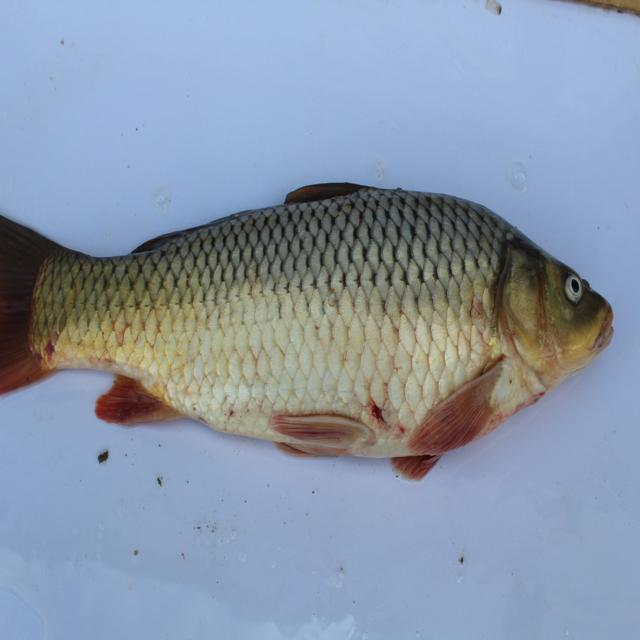CommonCarp: (1, 159, 619, 489)
